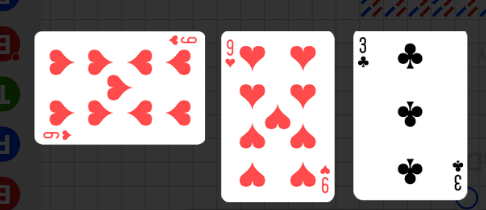3C: (450, 157, 464, 192)
9H: (167, 33, 198, 46), (42, 128, 73, 141)
